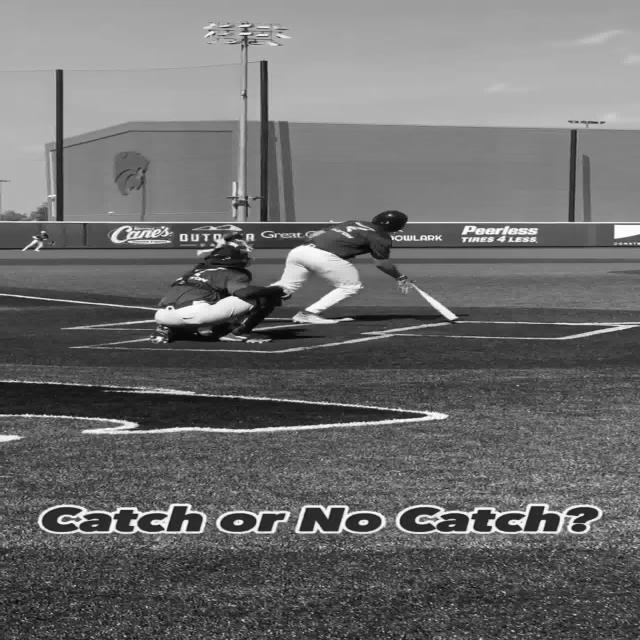bat: (408, 280, 458, 322)
shoe: (217, 332, 273, 344), (291, 310, 338, 324), (148, 325, 172, 344)
